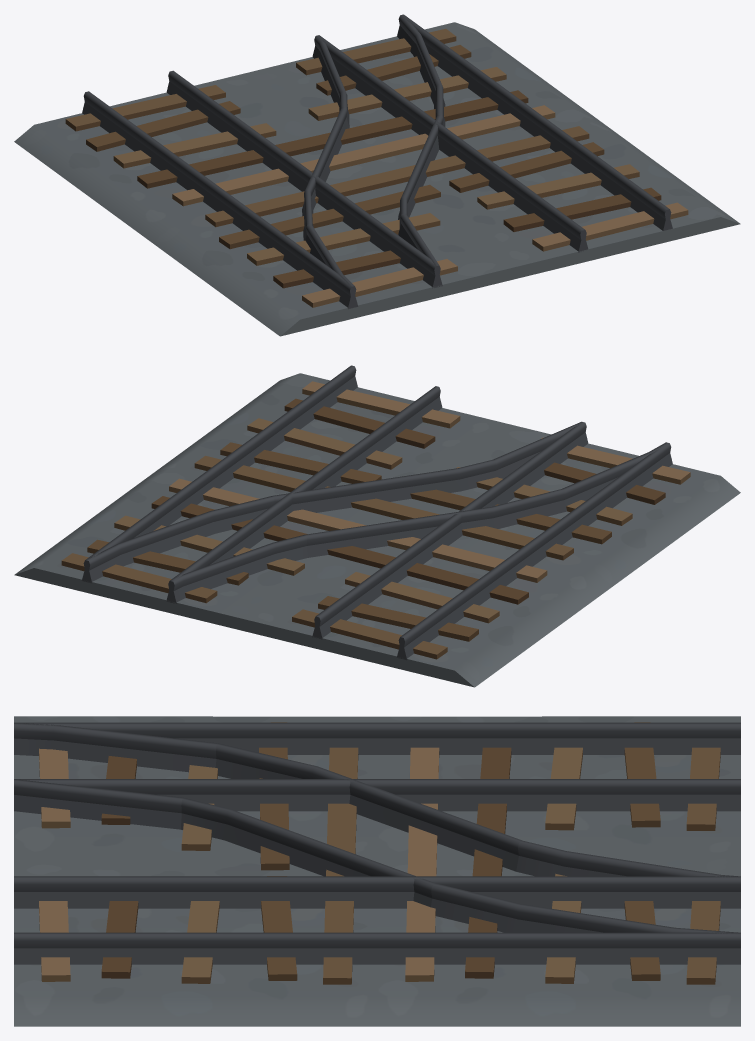
File: Railroad_C01.fbx
3 views of the same model, one above another, from view 1: azimuth 30°, elevation 25°; view 2: azimuth 150°, elevation 25°; view 3: azimuth 270°, elevation 25° (orthographic). The views are drawn at different scales.
Visible parts, largest first — view 1: Railroad_C01; view 2: Railroad_C01; view 3: Railroad_C01.
Part boxes in pixels (<box>): Railroad_C01: <box>14,14,740,336</box>; Railroad_C01: <box>14,365,740,687</box>; Railroad_C01: <box>14,716,740,1026</box>.
Bounding box in the file's own units: 800 × 53.47 × 800.
Materials: 1 (1 with a texture image).
